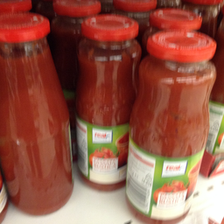tomato_sauce: (127, 29, 217, 223), (1, 13, 74, 216), (74, 15, 142, 192)
